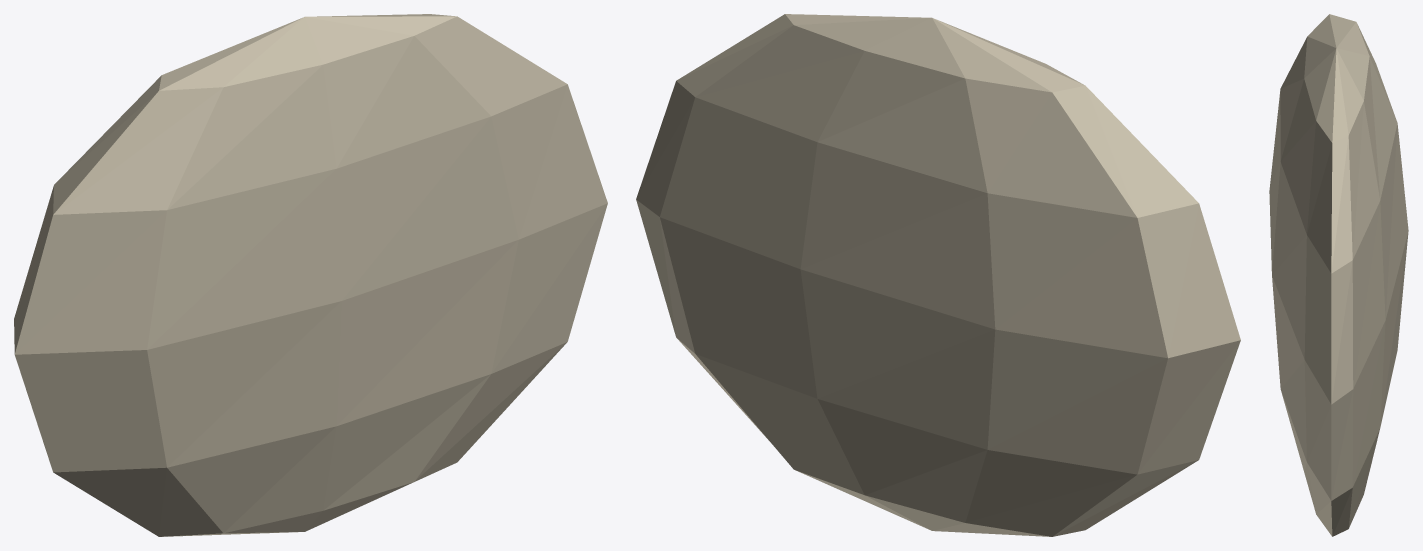
The model's file is tete_hache_0.glb.
The picture shows the model from 3 angles, left to right: view 1: azimuth 30°, elevation 25°; view 2: azimuth 150°, elevation 25°; view 3: azimuth 270°, elevation 25°; orthographic projection. The views are drawn at different scales.
Parts seen in each view (by area): view 1: tete_hache_02; view 2: tete_hache_02; view 3: tete_hache_02.
Part boxes in pixels (x1,y1,x2,y2): tete_hache_02: (14, 14, 607, 536); tete_hache_02: (636, 14, 1240, 536); tete_hache_02: (1269, 14, 1408, 536).
Bounding box in the file's own units: 1.28 × 1.05 × 0.2913.
